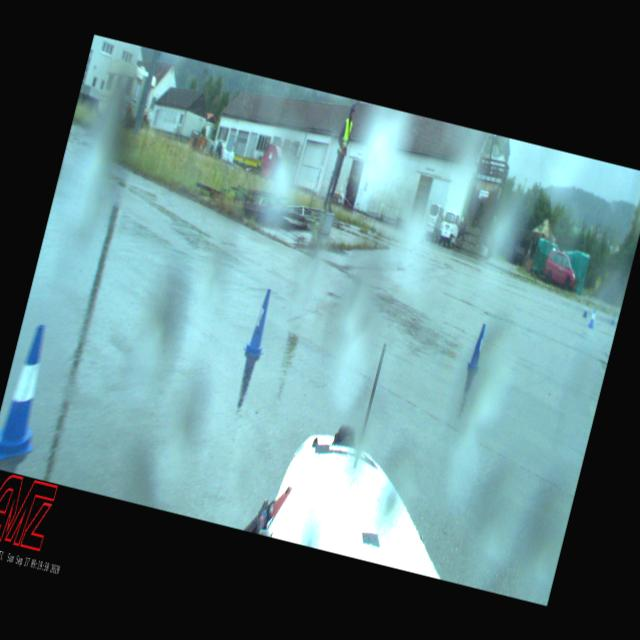blue_cone: (0, 321, 63, 468), (241, 286, 279, 358), (466, 322, 490, 373)
